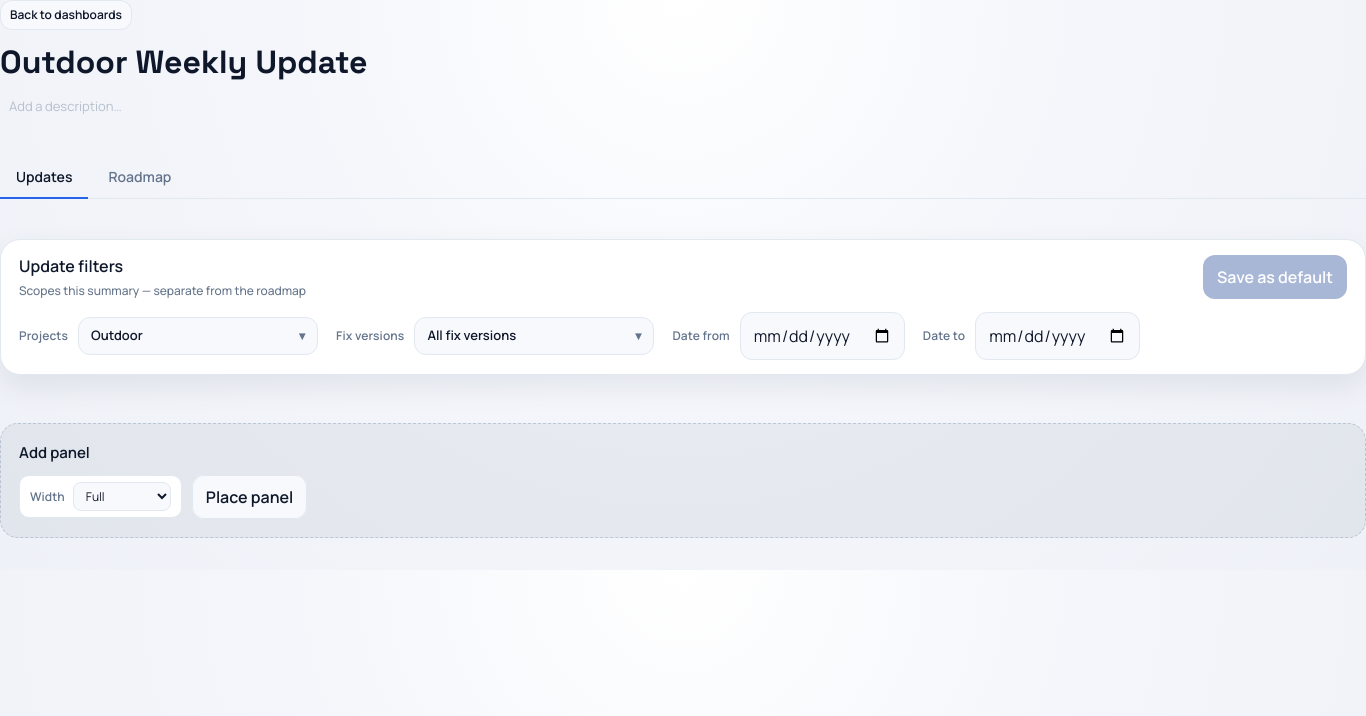
Filters › hides error message when date range is corrected
This screenshot has width=1366, height=716.
Step 1. Click the tab "Roadmap" → x=140, y=178, box [92,156,187,199]
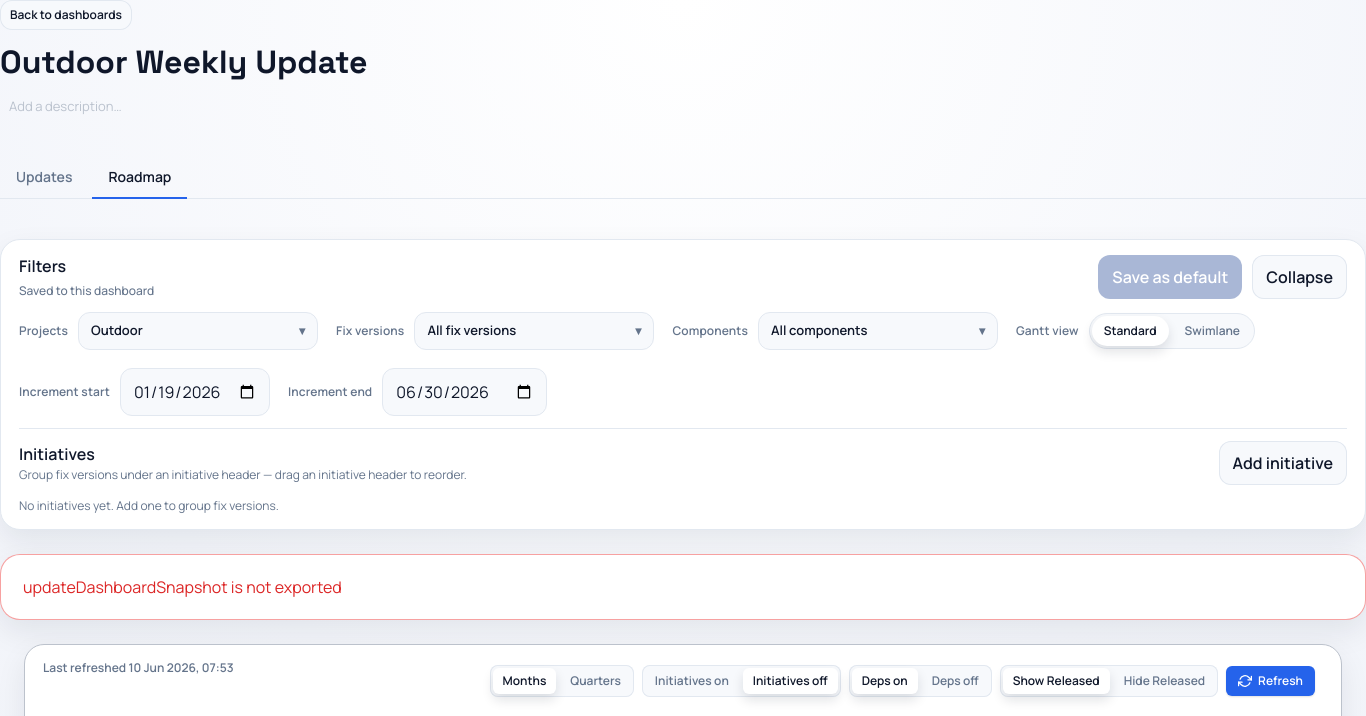
Step 2. Type "2026-12-01" into the date field showing "2026-01-19" next to "Increment start" → x=195, y=392, box [120,368,270,416]
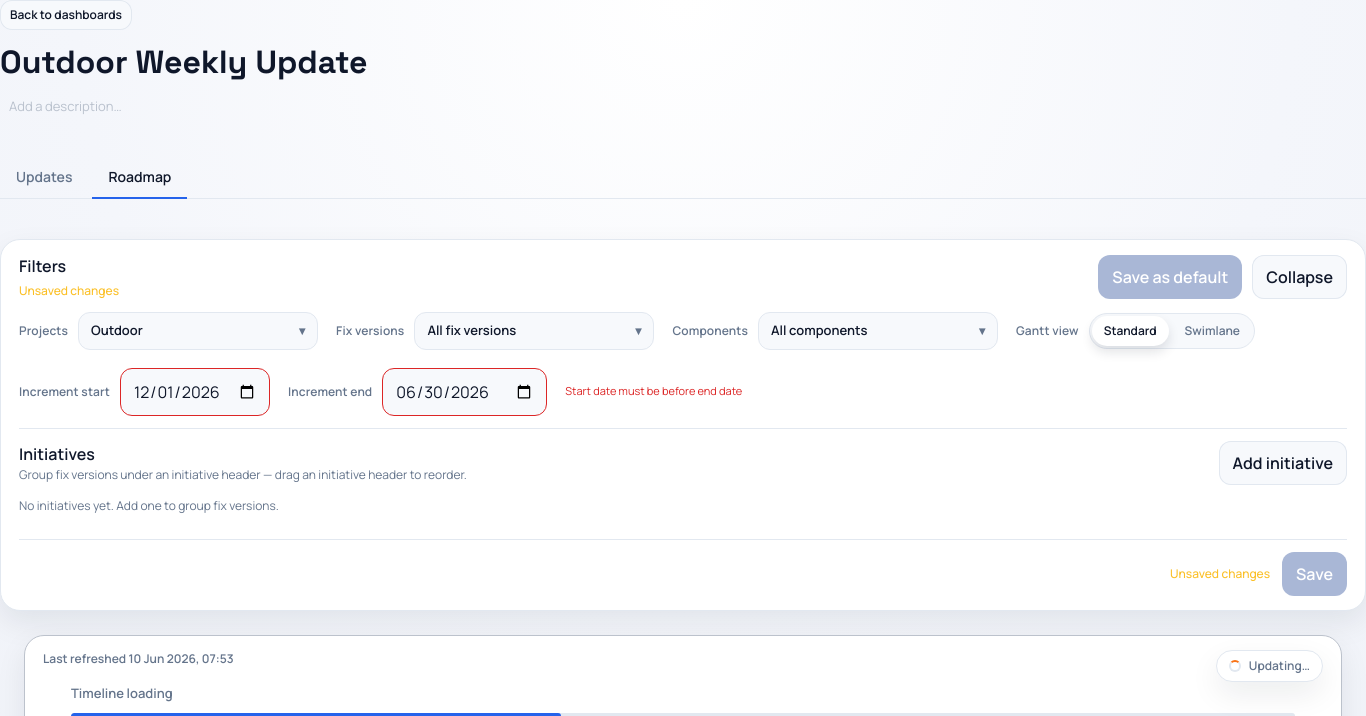
Expected: the text "Start date must be before end date" is shown, [565,383,742,400]
Step 3. Type "2026-01-19" into the date field showing "2026-01-19" next to "Increment start" → x=195, y=392, box [120,368,270,416]
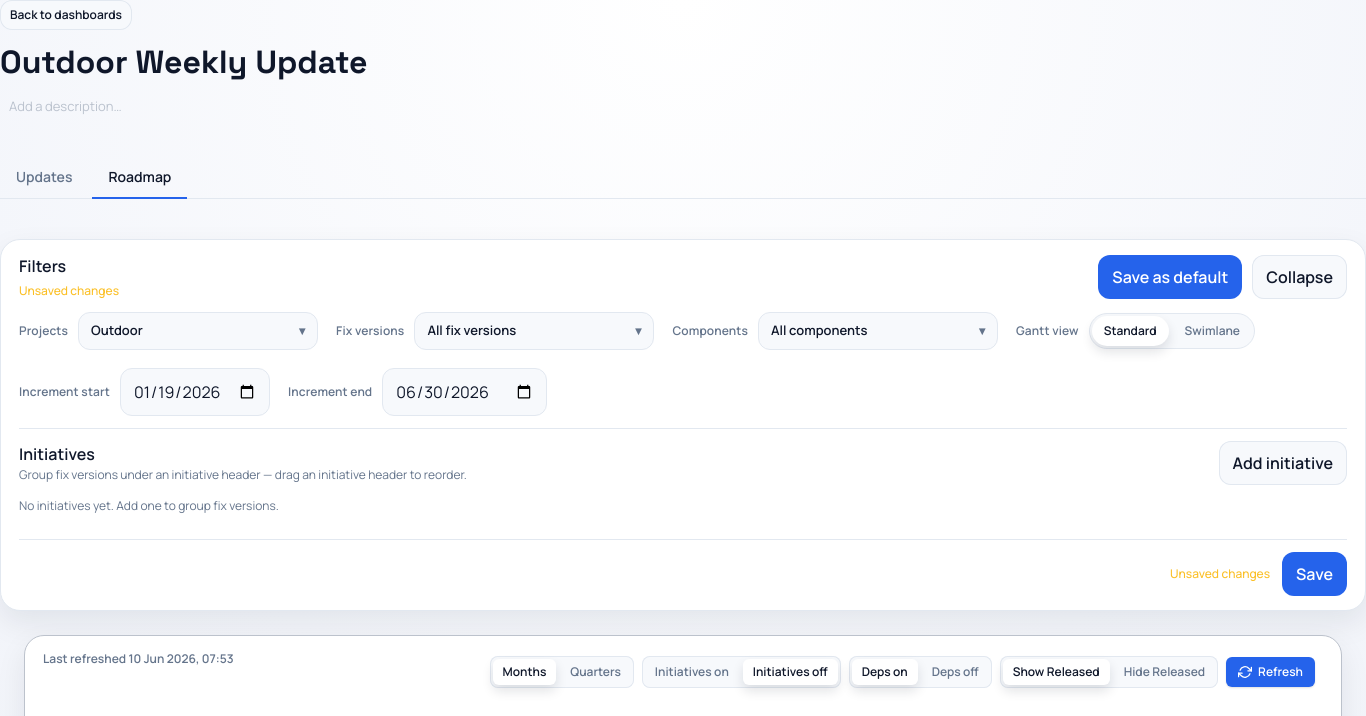
Expected: the text "Start date must be before end date" is gone
